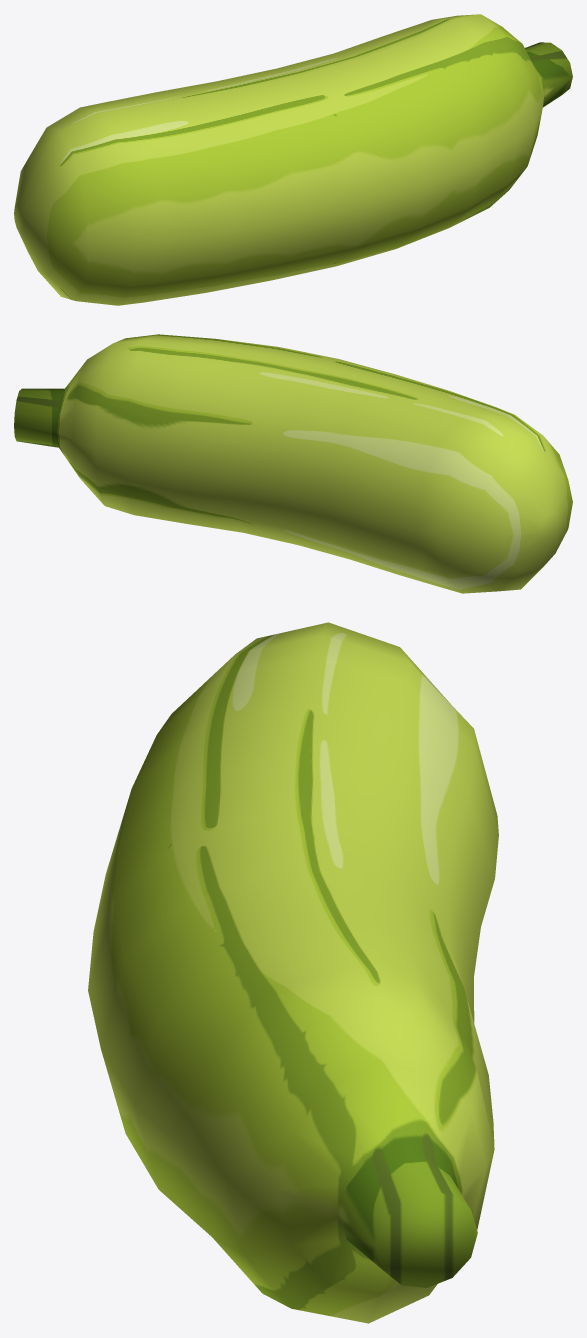
Rendered from Courgette.fbx.
3 views of the same model, one above another, from view 1: azimuth 30°, elevation 25°; view 2: azimuth 150°, elevation 25°; view 3: azimuth 270°, elevation 25° (orthographic). The views are drawn at different scales.
Parts seen in each view (by area): view 1: Courgette; view 2: Courgette; view 3: Courgette.
Boxes of the visible parts, x1,y1,x2,y2 form: Courgette: (14,14,572,305); Courgette: (14,334,572,593); Courgette: (88,622,498,1323).
Bounding box in the file's own units: 20.03 × 6.33 × 6.85.
